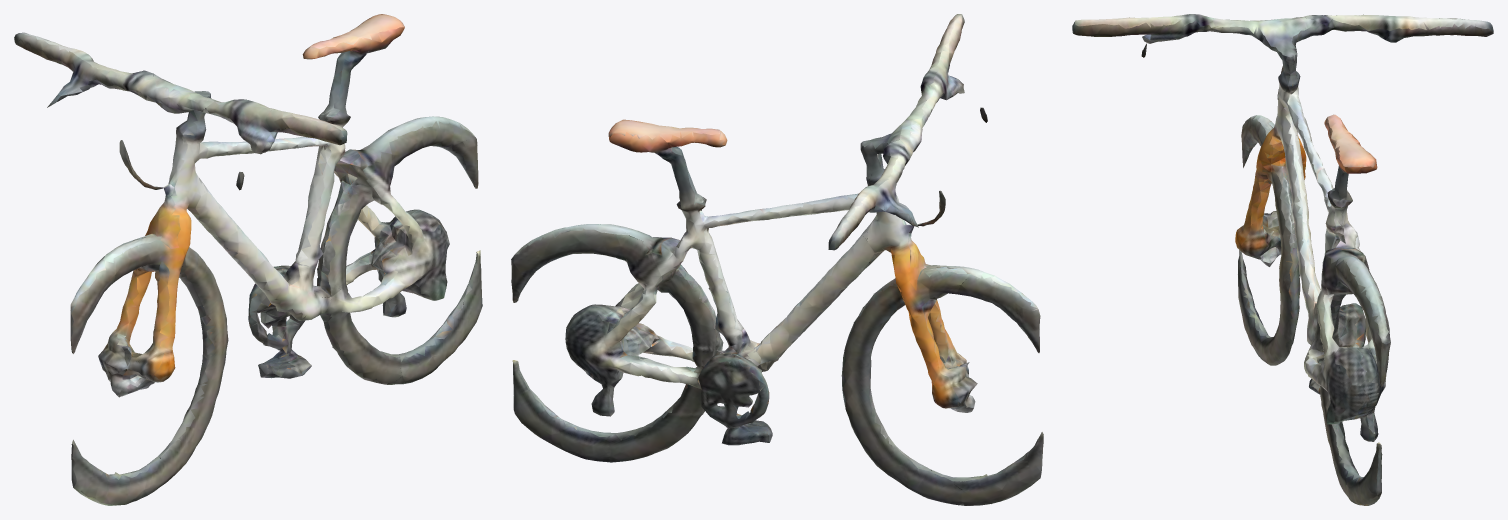
3 views of the same model, side by side, from view 1: azimuth 30°, elevation 25°; view 2: azimuth 150°, elevation 25°; view 3: azimuth 270°, elevation 25° (orthographic). The views are drawn at different scales.
Parts seen in each view (by area): view 1: world; view 2: world; view 3: world.
Boxes of the visible parts, left/top/right/bottom form: world: left=14, top=14, right=482, bottom=505; world: left=511, top=14, right=1043, bottom=505; world: left=1072, top=14, right=1493, bottom=505.
Size of the model in its own units: 1.01 by 0.8364 by 0.841.
1 material, 1 textured.
